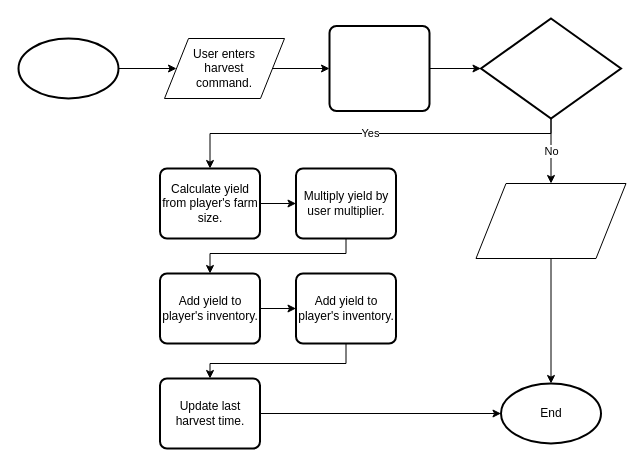
The diagram is 643 pixels wide and 466 high, and some of its shapes have lost their labels. Each missing label, with the centre of its shape:
Has the time period elapsed?: (x=551, y=68)
Send user an error message (fruit has not grown).: (x=550, y=220)
Start: (x=68, y=68)
Subtract current time from last harvest time.: (x=379, y=68)
